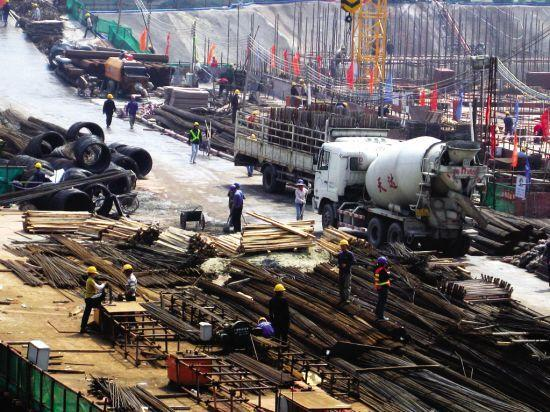helmet: (87, 267, 100, 276), (274, 284, 287, 293), (122, 265, 134, 274), (379, 257, 389, 265), (340, 240, 350, 247), (259, 317, 268, 324), (35, 163, 43, 170), (298, 179, 305, 186), (107, 95, 114, 101), (195, 122, 201, 128), (505, 111, 511, 117), (299, 79, 305, 85), (343, 102, 348, 108), (292, 83, 298, 88), (131, 95, 137, 100), (33, 3, 38, 9), (523, 146, 527, 153), (86, 13, 91, 18), (235, 90, 240, 95), (6, 1, 11, 4)
